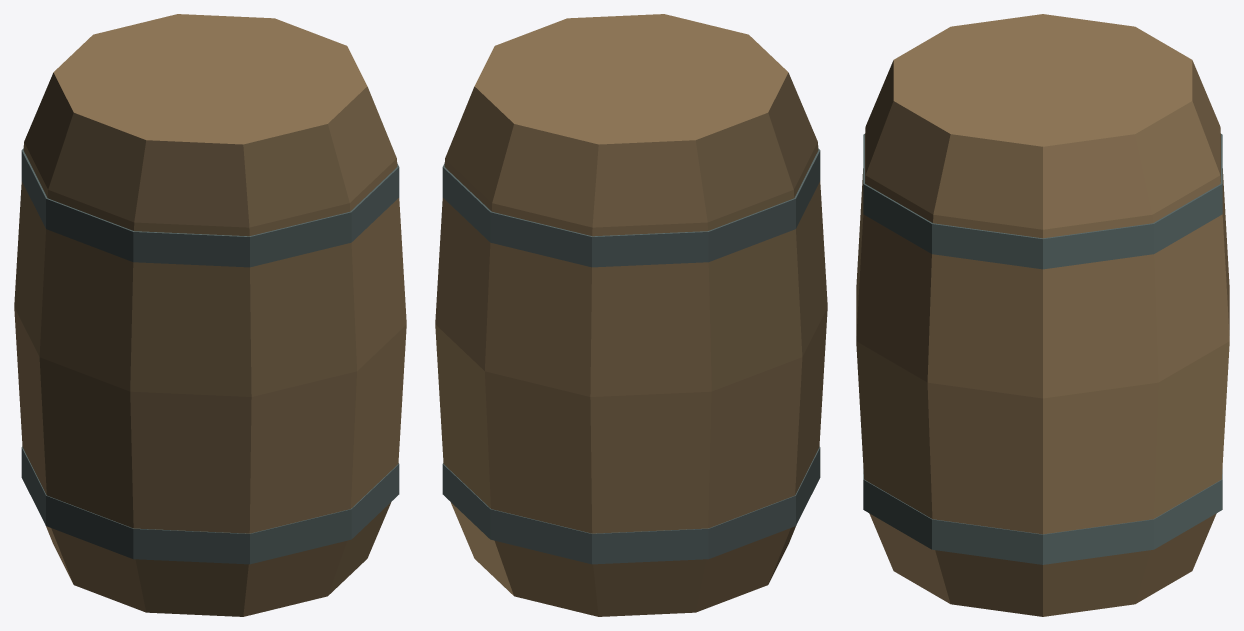
3 renders of one model, left to right at view 1: azimuth 30°, elevation 25°; view 2: azimuth 150°, elevation 25°; view 3: azimuth 270°, elevation 25°, orthographic.
Parts seen in each view (by area): view 1: 8aef12da615da3fc4668247d6341e49fd20b15b20cfdeaea319093078e99; view 2: 8aef12da615da3fc4668247d6341e49fd20b15b20cfdeaea319093078e99; view 3: 8aef12da615da3fc4668247d6341e49fd20b15b20cfdeaea319093078e99.
Boxes of the visible parts, x1,y1,x2,y2 form: 8aef12da615da3fc4668247d6341e49fd20b15b20cfdeaea319093078e99: [14, 14, 406, 616]; 8aef12da615da3fc4668247d6341e49fd20b15b20cfdeaea319093078e99: [435, 14, 827, 616]; 8aef12da615da3fc4668247d6341e49fd20b15b20cfdeaea319093078e99: [856, 14, 1229, 616].
Bounding box in the file's own units: 0.53 × 0.7 × 0.5041.
1 material, 1 textured.
